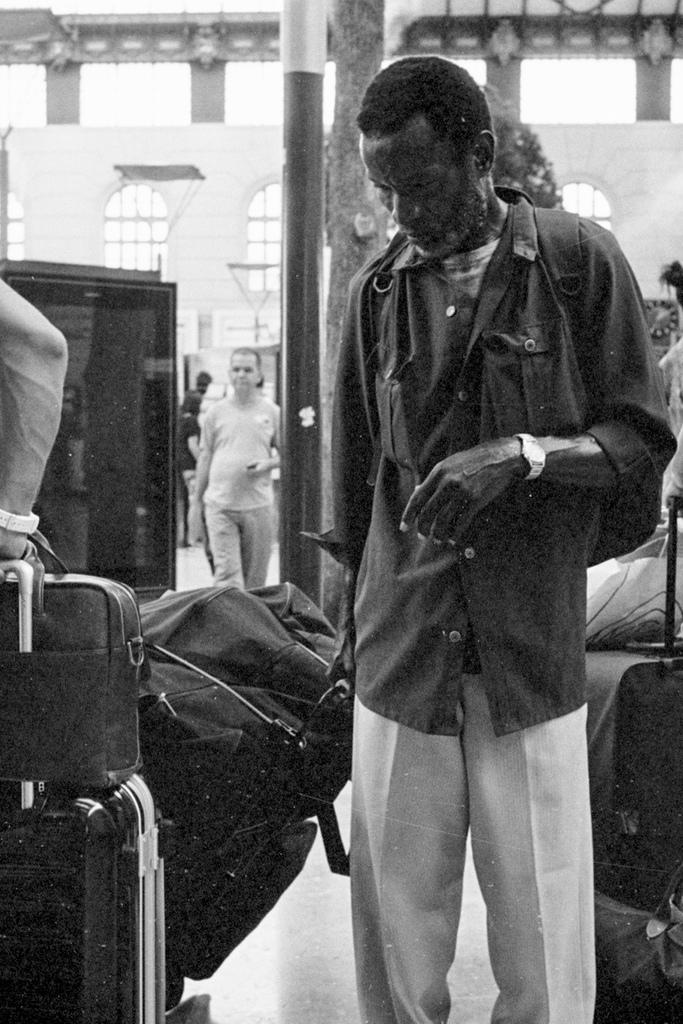Luggage-and-bags: (25, 527, 172, 988), (155, 678, 360, 1008), (129, 585, 336, 824), (614, 490, 682, 903)
